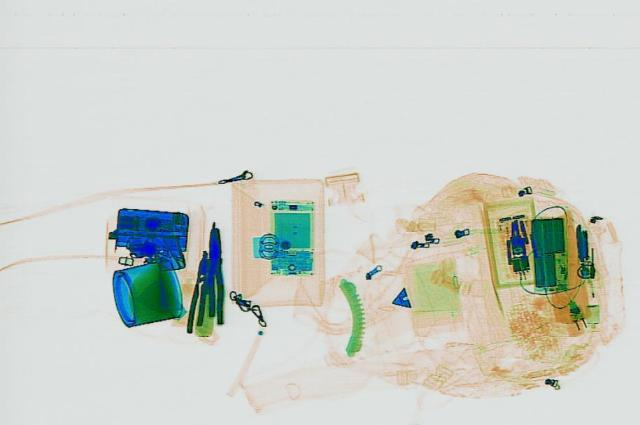Pliers: (203, 225, 224, 323)
